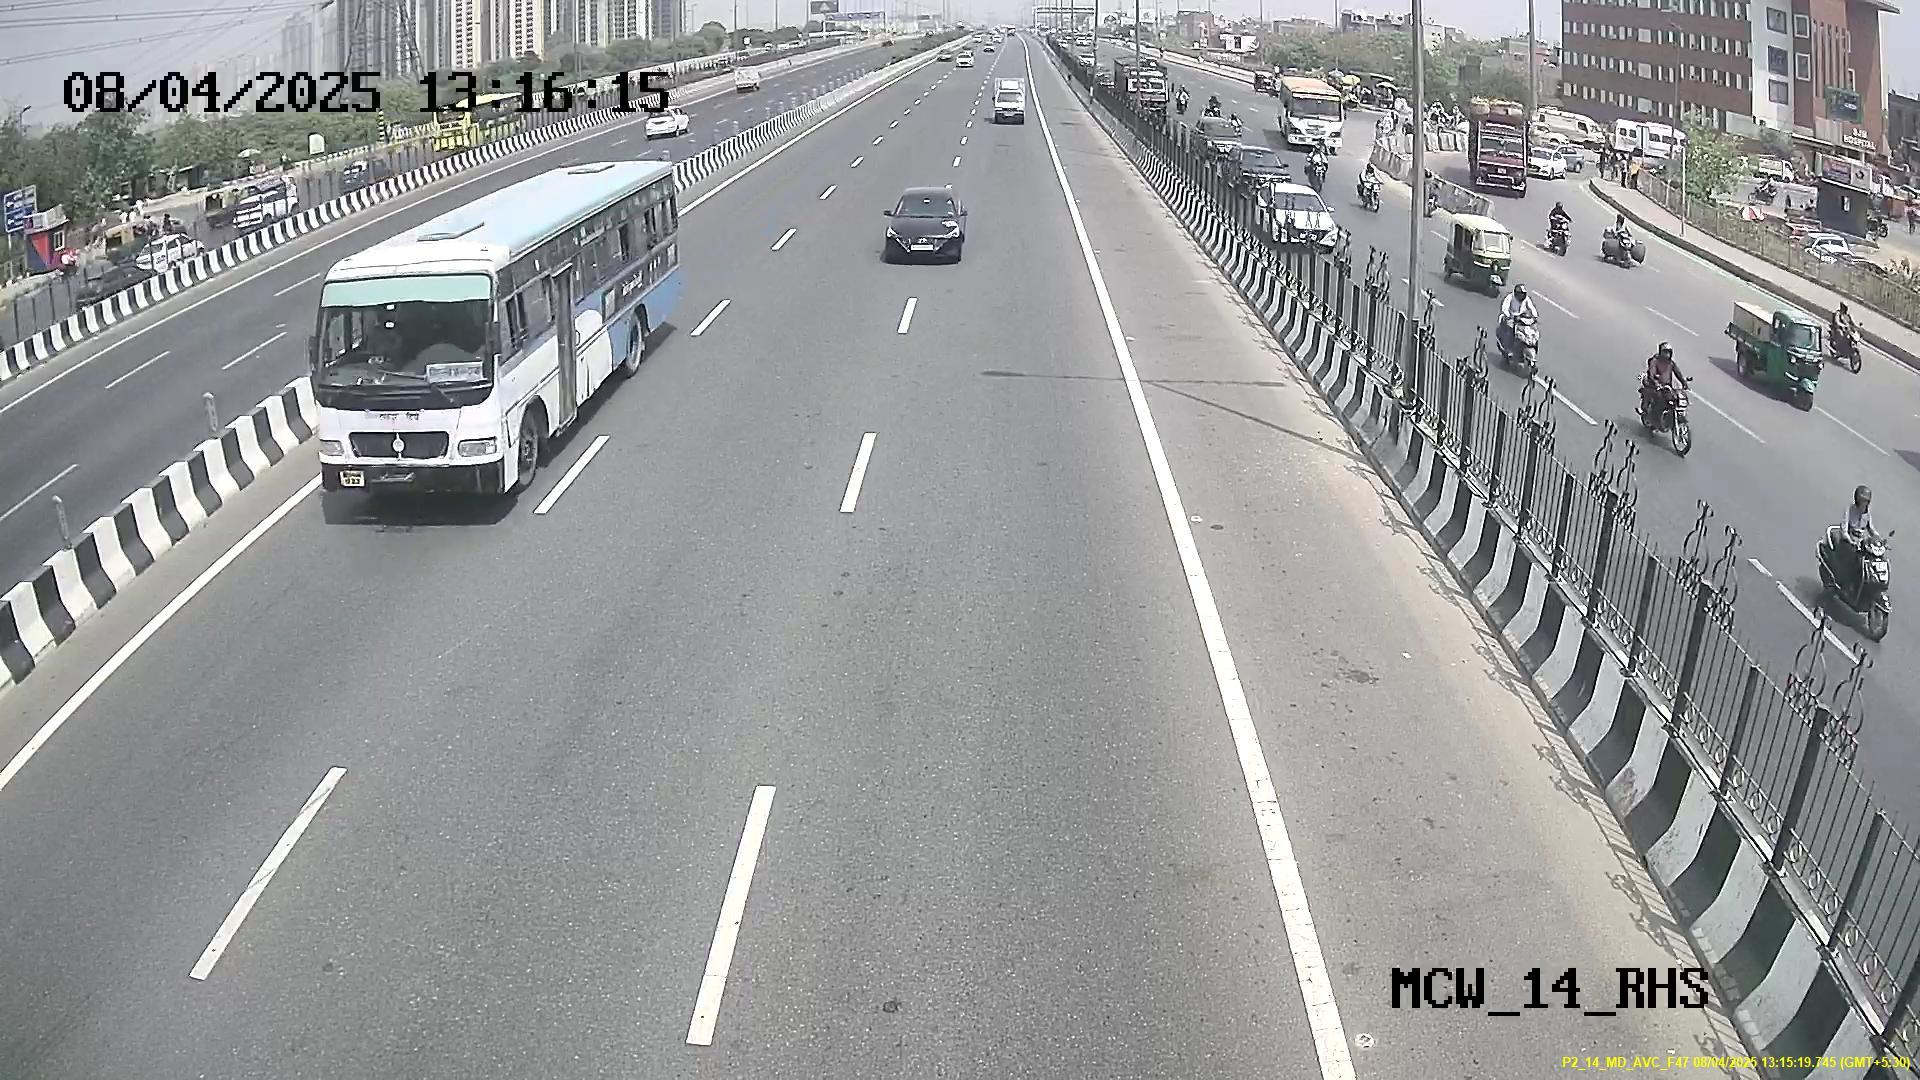bus: (302, 222, 583, 514)
car: (877, 190, 973, 266)
